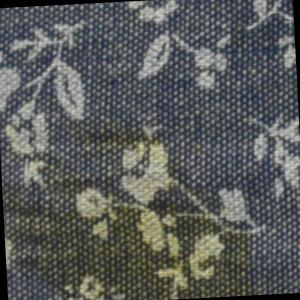Stain: (1, 113, 265, 300)
